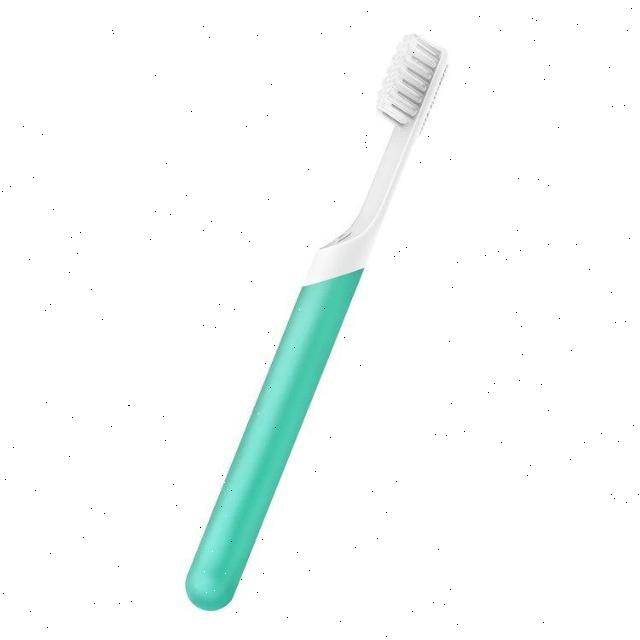toothbrush: (167, 19, 453, 626)
